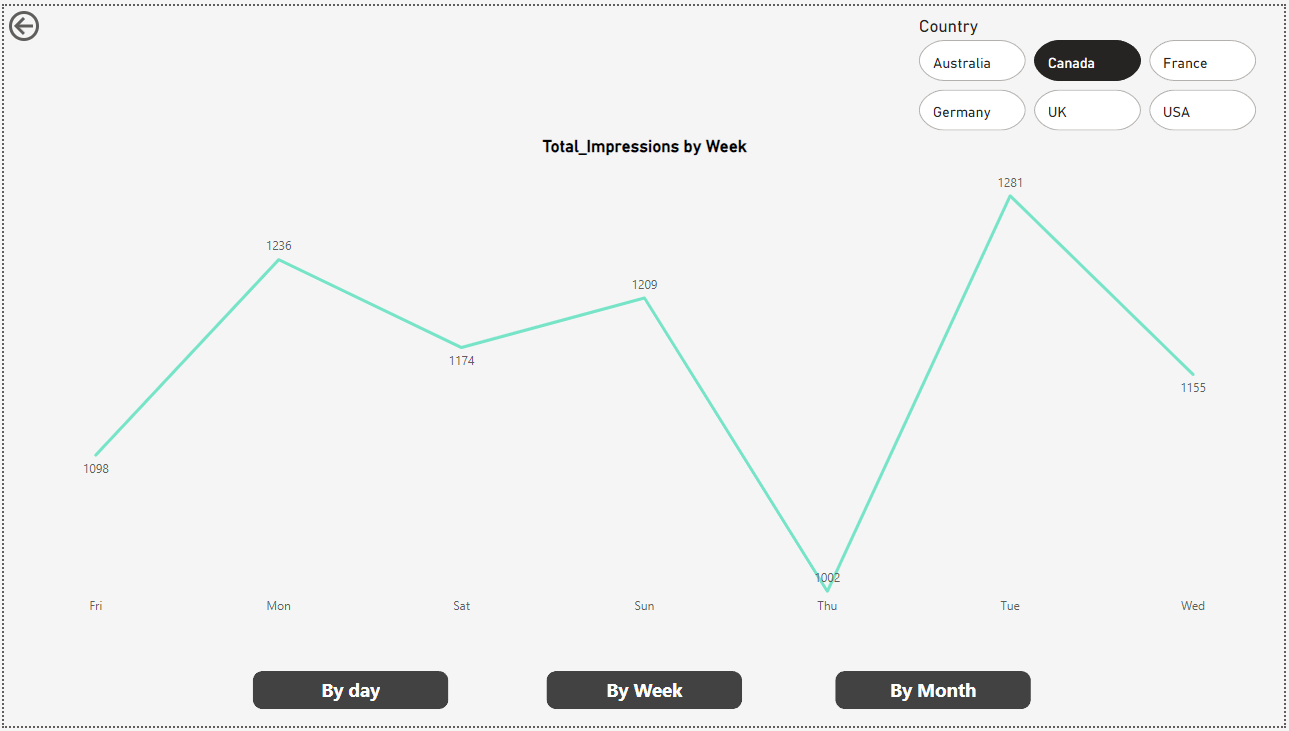

The page's visual inventory and layout, read from the dashboard file:
{"tool":"powerbi","page":{"name":"Timeline","canvas":[1280,720],"ordinal":3},"visuals":[{"type":"actionButton","box":[0,0,100,40],"z":0},{"type":"lineChart","fields":{"Y":["FitBitDataMarketing.Total_Impressions"],"Category":["FitBitDataMarketing.DateTime.Variation.Date Hierarchy.Month"]},"box":[26,129.9,1253.7,488.3],"z":1000},{"type":"shape","box":[542,664.9,195.7,38.1],"z":2000},{"type":"shape","box":[249.4,664.9,195.7,38.1],"z":3000},{"type":"advancedSlicerVisual","fields":{"Values":["Countries_To_imgs.Country"]},"box":[909.7,9.7,348.7,119.4],"z":4000},{"type":"shape","box":[831.2,664.9,195.7,38.1],"z":6000}]}

Visuals, with their boxes in screenshot pixels (x1, y1, x2, y2), scaled from the page's 1280x720 canvas onto the 1289x731 screenshot:
actionButton: bbox=(0, 0, 101, 41)
lineChart - FitBitDataMarketing.Total_Impressions x FitBitDataMarketing.DateTime.Variation.Date Hierarchy.Month: bbox=(26, 132, 1288, 628)
shape: bbox=(546, 675, 743, 714)
shape: bbox=(251, 675, 448, 714)
advancedSlicerVisual - Countries_To_imgs.Country: bbox=(916, 10, 1267, 131)
shape: bbox=(837, 675, 1034, 714)
